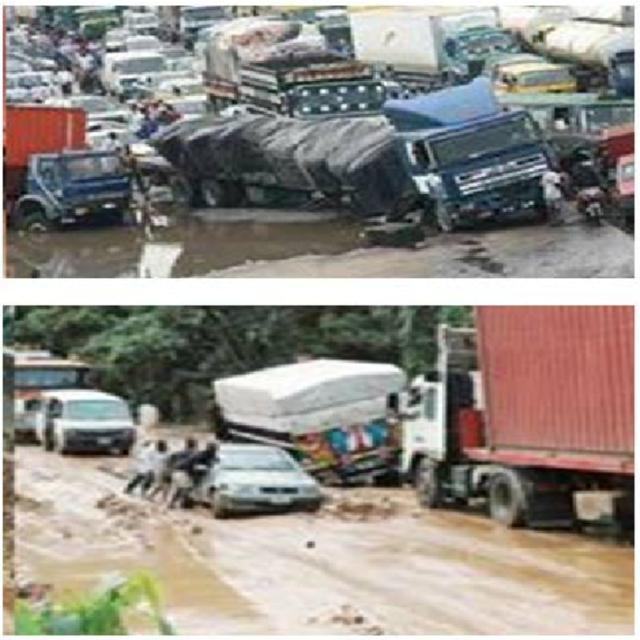Accident: (123, 77, 575, 235), (140, 351, 432, 524)
